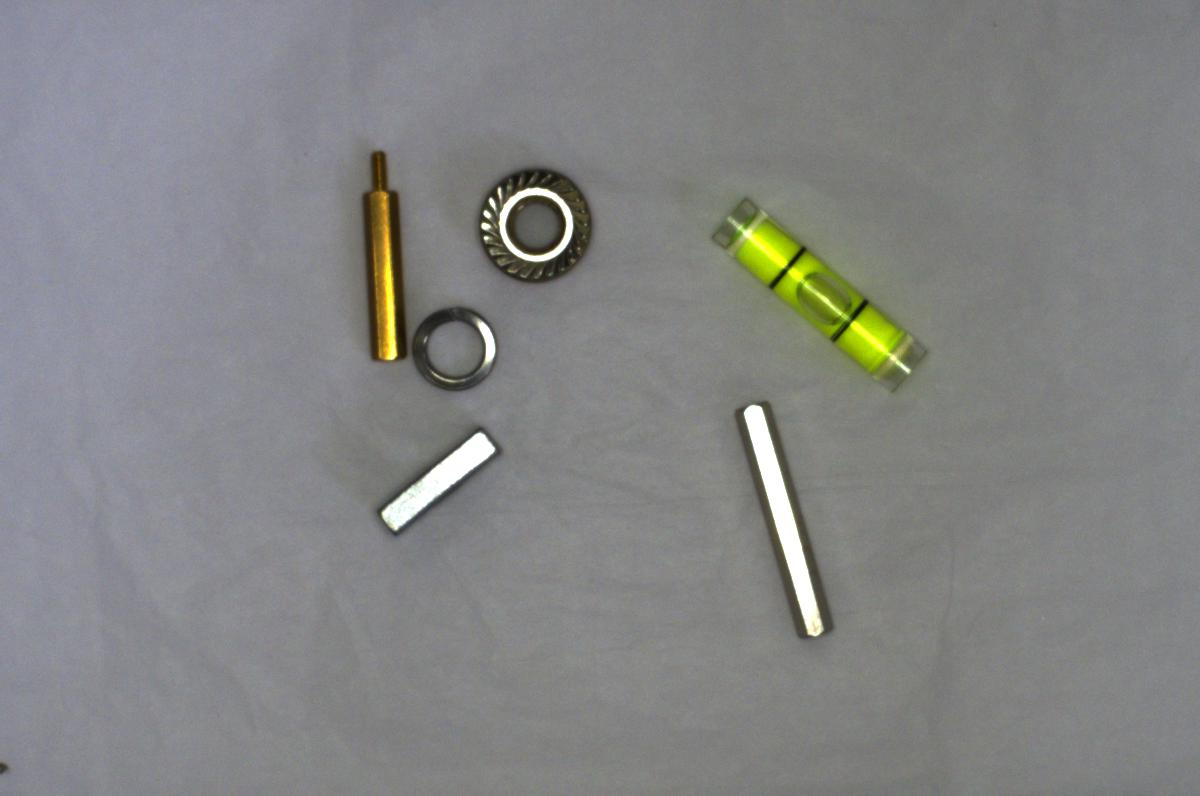Double hexagonal column: (722, 390, 852, 650)
Flange nut: (460, 160, 605, 293)
Hexagon pillar: (344, 135, 414, 375)
Horizontal bubble: (704, 195, 935, 398)
Rectangular nut: (377, 422, 502, 538)
Spring washer: (411, 301, 505, 393)
